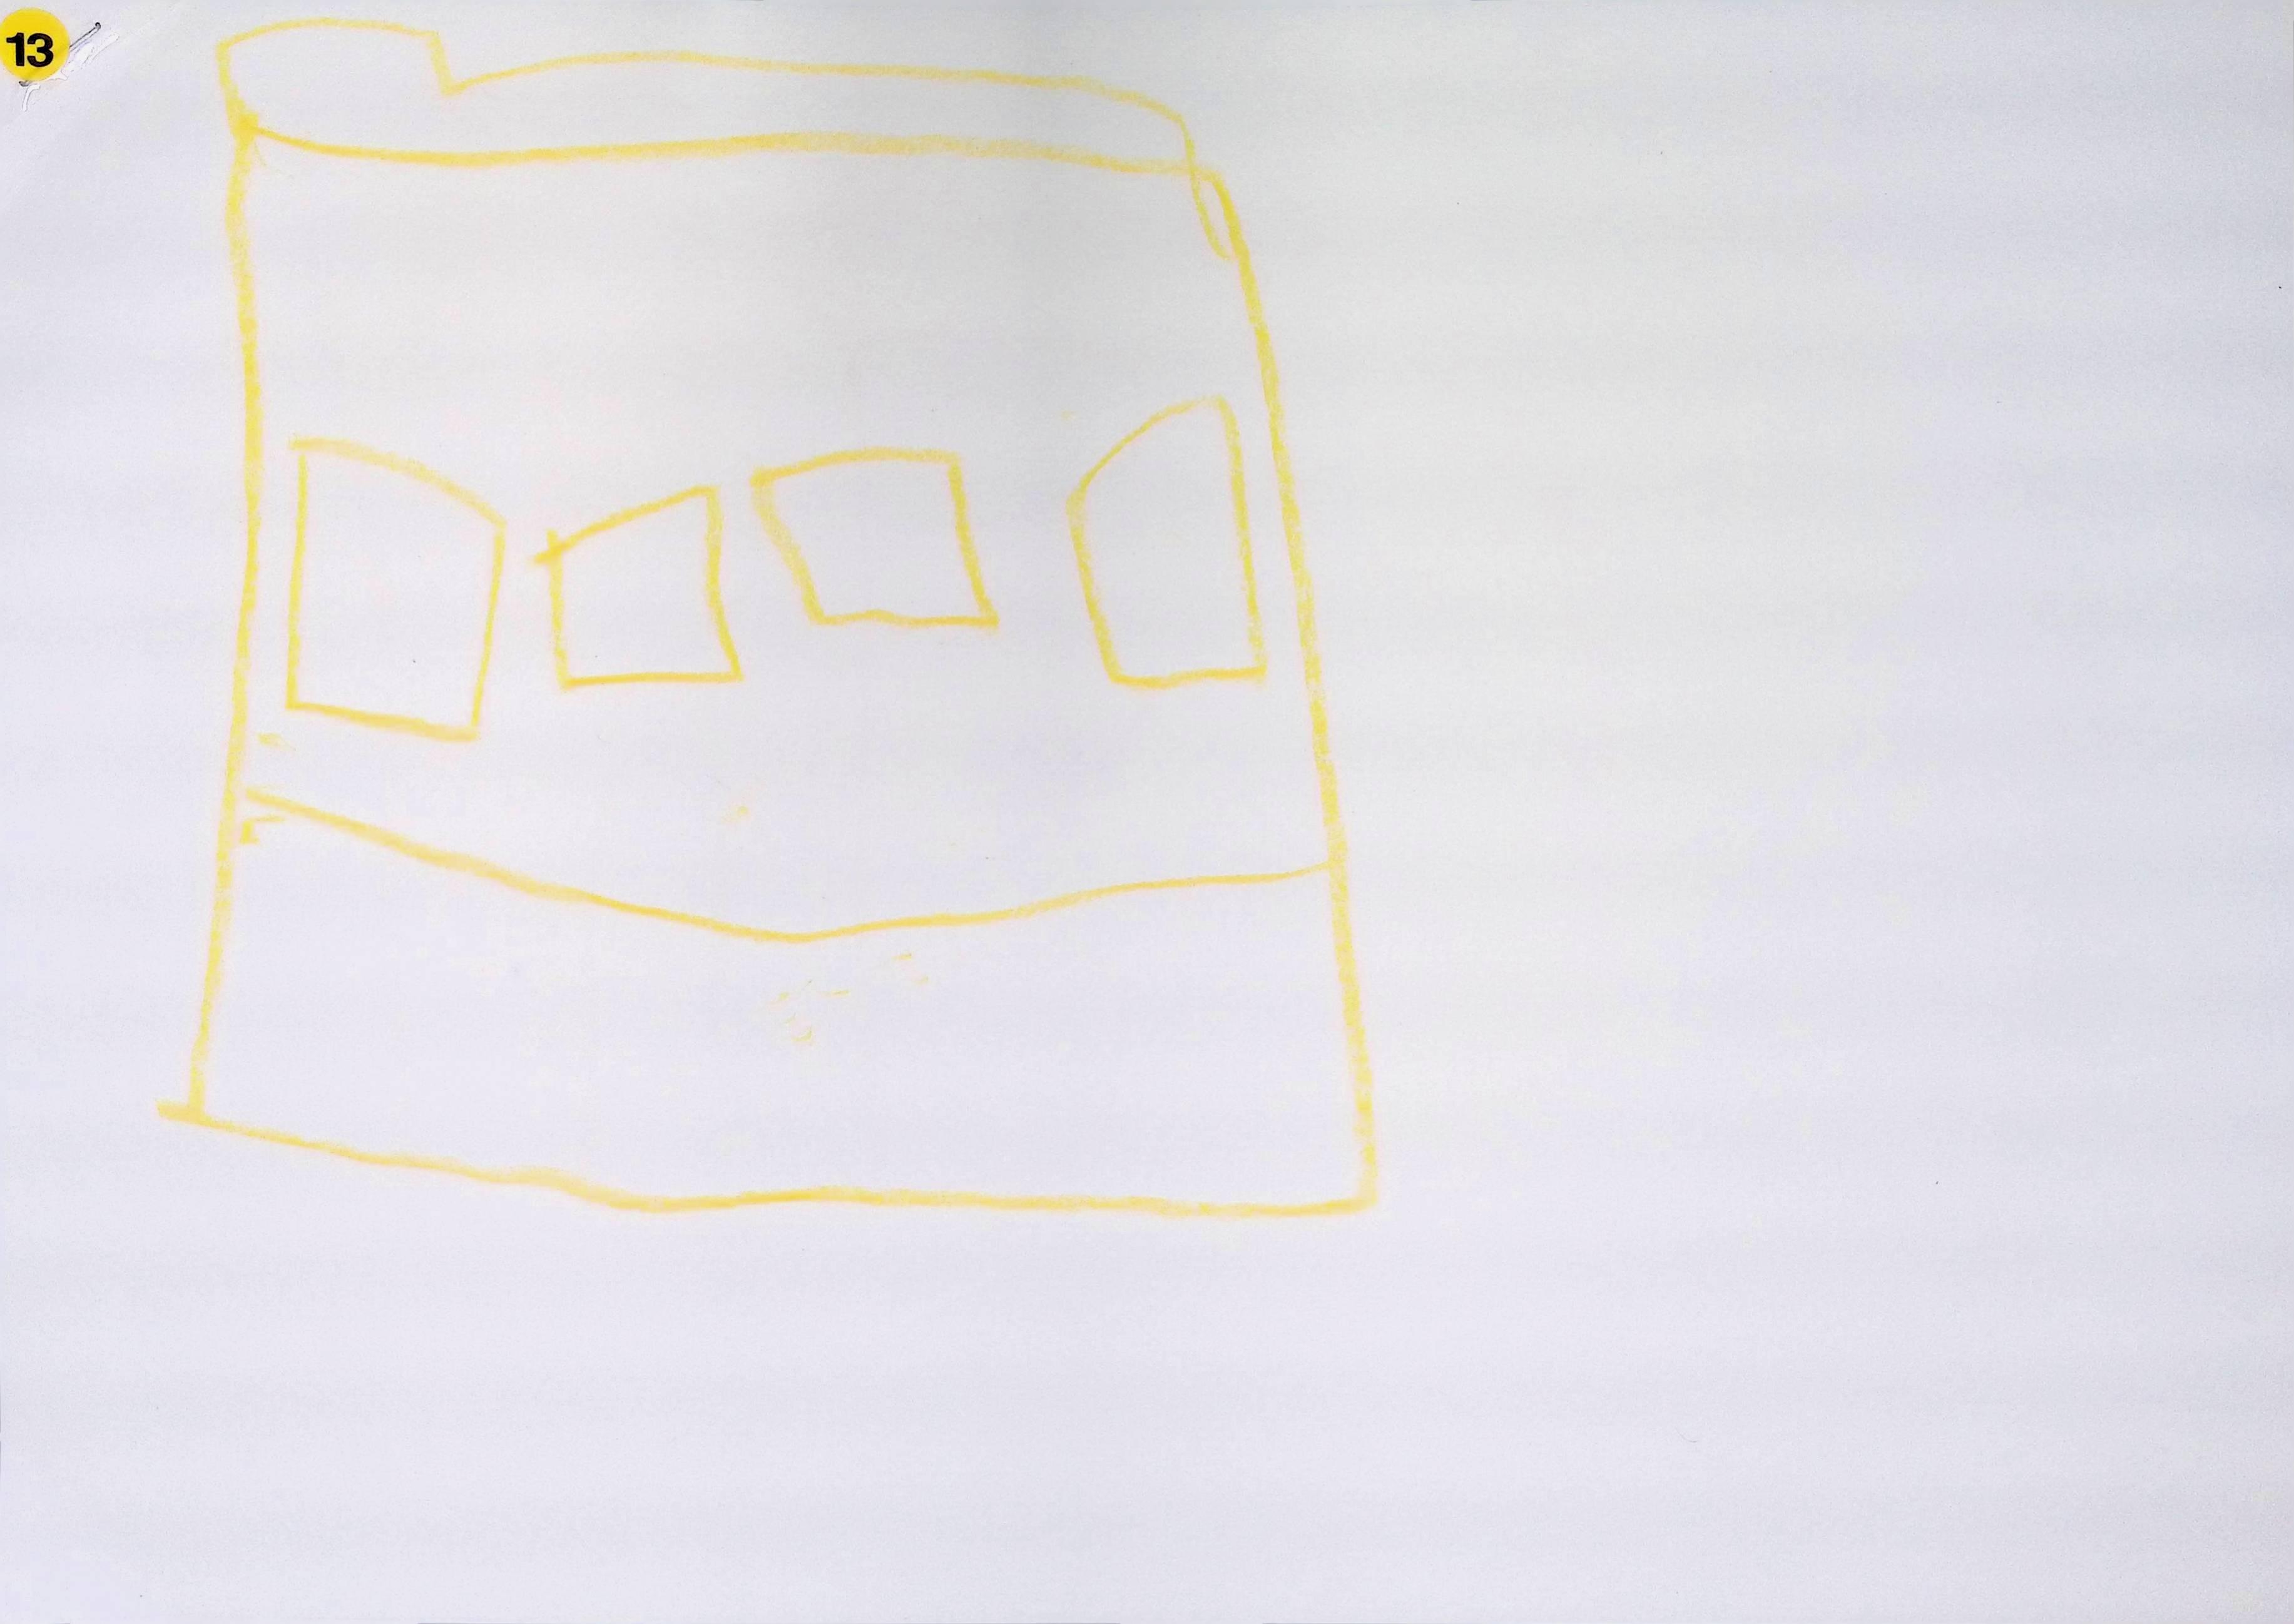house: (174, 18, 1375, 1213)
roof: (220, 19, 1201, 169)
wall: (232, 134, 1352, 951)
window: (285, 438, 501, 738), (1069, 394, 1266, 685), (754, 450, 993, 620), (534, 485, 738, 684)
